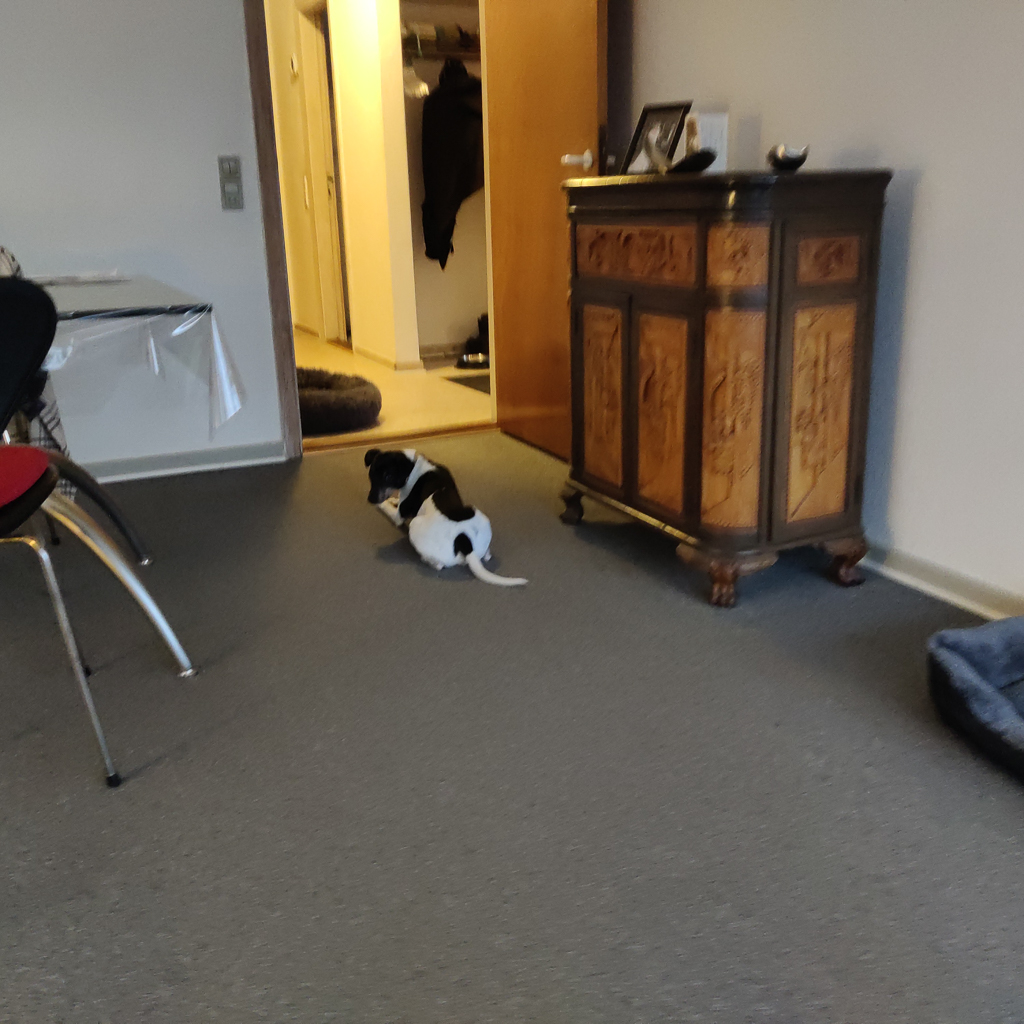Dog: (348, 435, 538, 592)
